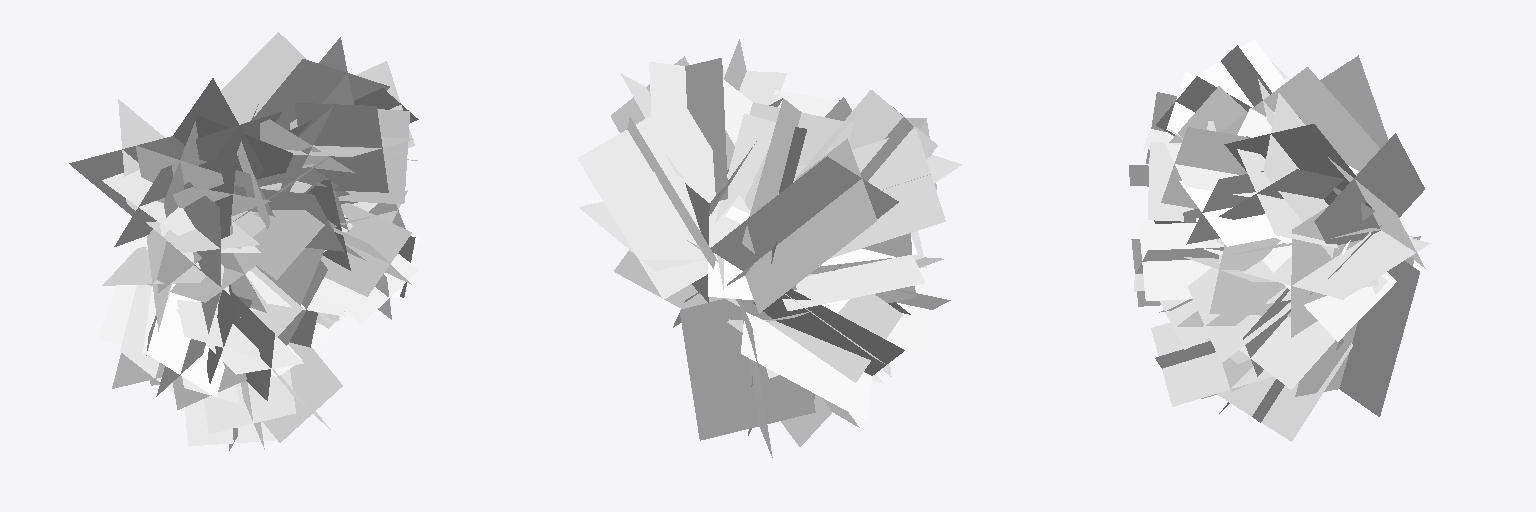
Rendered from orange10_tex.obj.
3 renders of one model, left to right at view 1: azimuth 30°, elevation 25°; view 2: azimuth 150°, elevation 25°; view 3: azimuth 270°, elevation 25°, orthographic.
Visible parts, largest first — view 1: material4; view 2: material4; view 3: material4.
Boxes of the visible parts, x1=… form: material4: x1=69, y1=32, x2=420, y2=450; material4: x1=577, y1=39, x2=961, y2=457; material4: x1=1129, y1=39, x2=1430, y2=441.
Bounding box in the file's own units: 8.43 × 9.38 × 6.88.